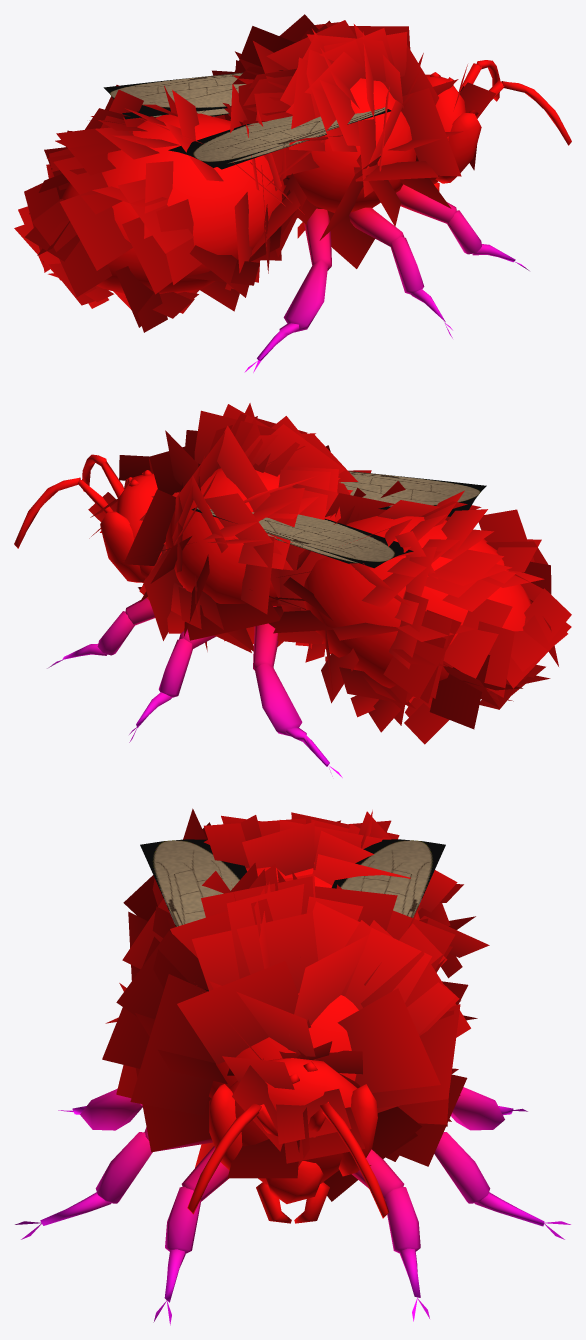
The model's file is SM_Bumblebee_Landed_LOD2.fbx.
The picture shows the model from 3 angles, top to bottom: view 1: azimuth 30°, elevation 25°; view 2: azimuth 150°, elevation 25°; view 3: azimuth 270°, elevation 25°; orthographic projection. The views are drawn at different scales.
Parts seen in each view (by area): view 1: SM_Bumblebee_Landed_LOD2; view 2: SM_Bumblebee_Landed_LOD2; view 3: SM_Bumblebee_Landed_LOD2.
Boxes of the visible parts, box(x1,y1,x2,y2) form: SM_Bumblebee_Landed_LOD2: box(14, 14, 571, 372); SM_Bumblebee_Landed_LOD2: box(14, 403, 571, 777); SM_Bumblebee_Landed_LOD2: box(15, 808, 570, 1325).
Bounding box in the file's own units: 3.21 × 1.5 × 2.19.
